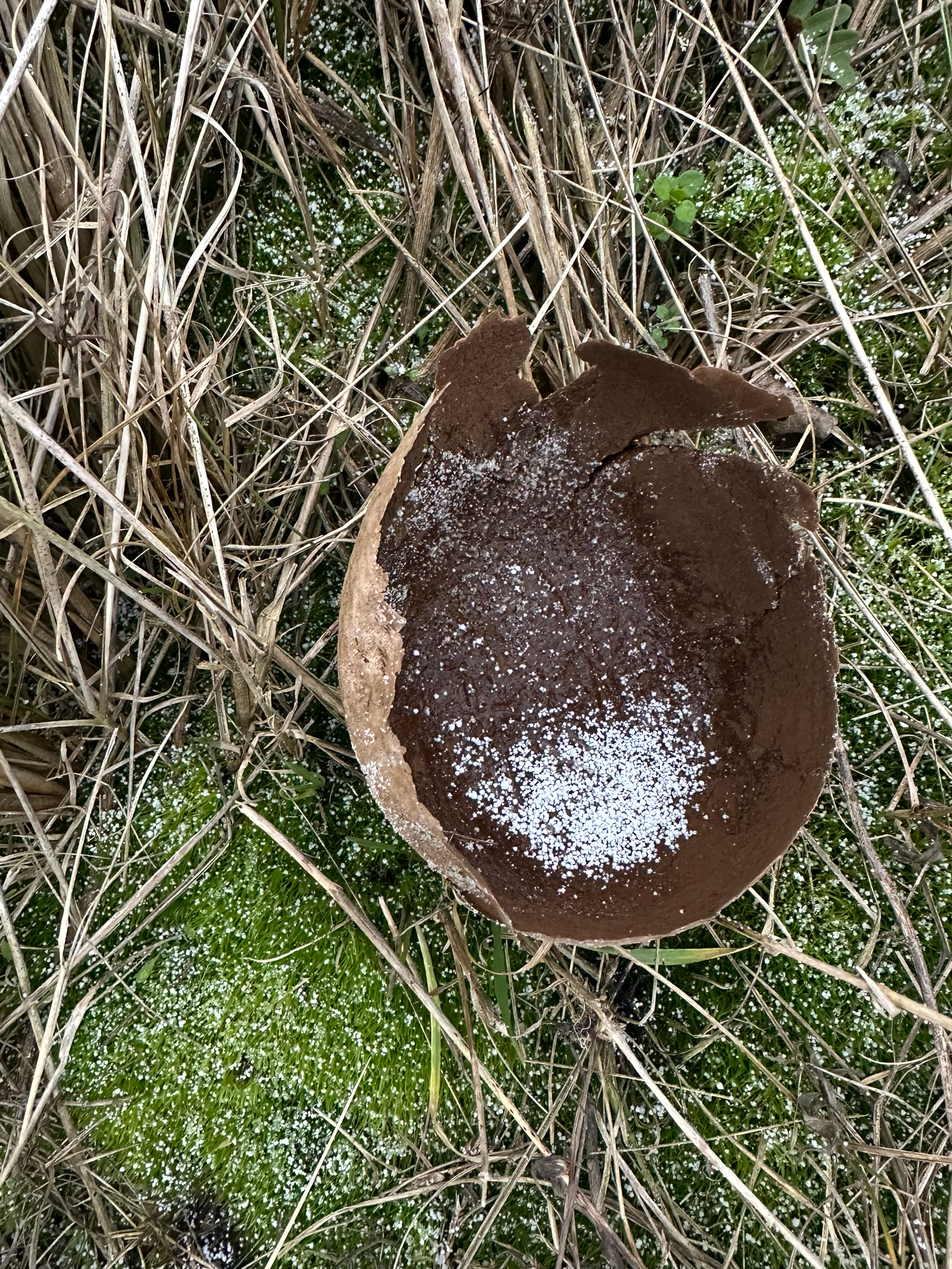Cap: (338, 314, 837, 942)
